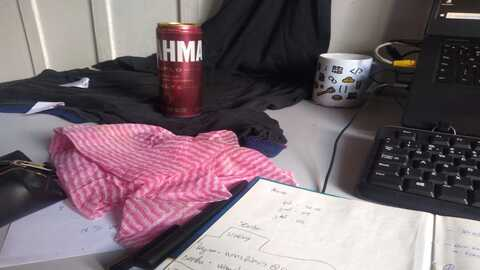duplo_malte: (147, 18, 212, 122)
